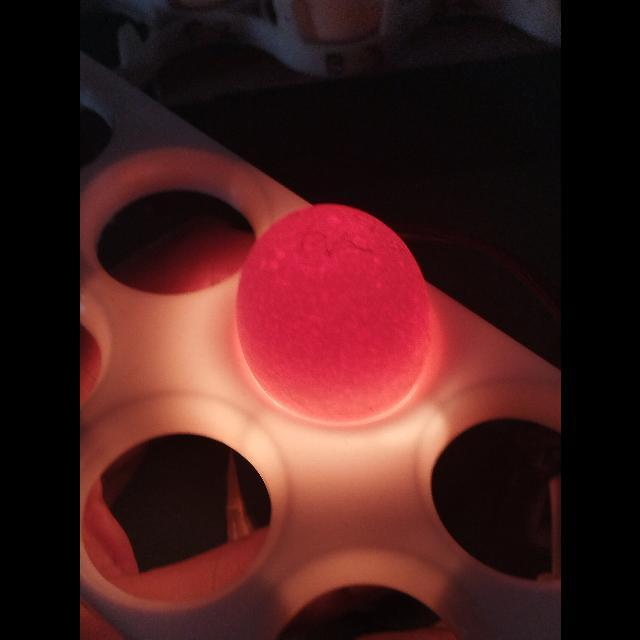Infertile: (235, 200, 438, 428)
